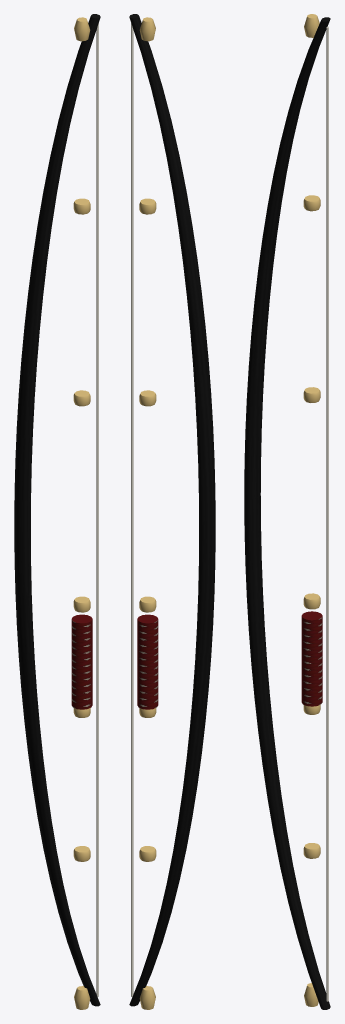
The model's file is bow.glb.
3 views of the same model, side by side, from view 1: azimuth 30°, elevation 25°; view 2: azimuth 150°, elevation 25°; view 3: azimuth 330°, elevation 25° (orthographic).
Visible parts, largest first — view 1: bow; view 2: bow; view 3: bow.
Boxes of the visible parts, bbox=[...] form: bow: bbox=[14, 14, 100, 1009]; bow: bbox=[129, 14, 215, 1009]; bow: bbox=[244, 14, 330, 1009].
Size of the model in its own units: 0.1825 by 2.06 by 0.04.
4 materials, 2 textured.
